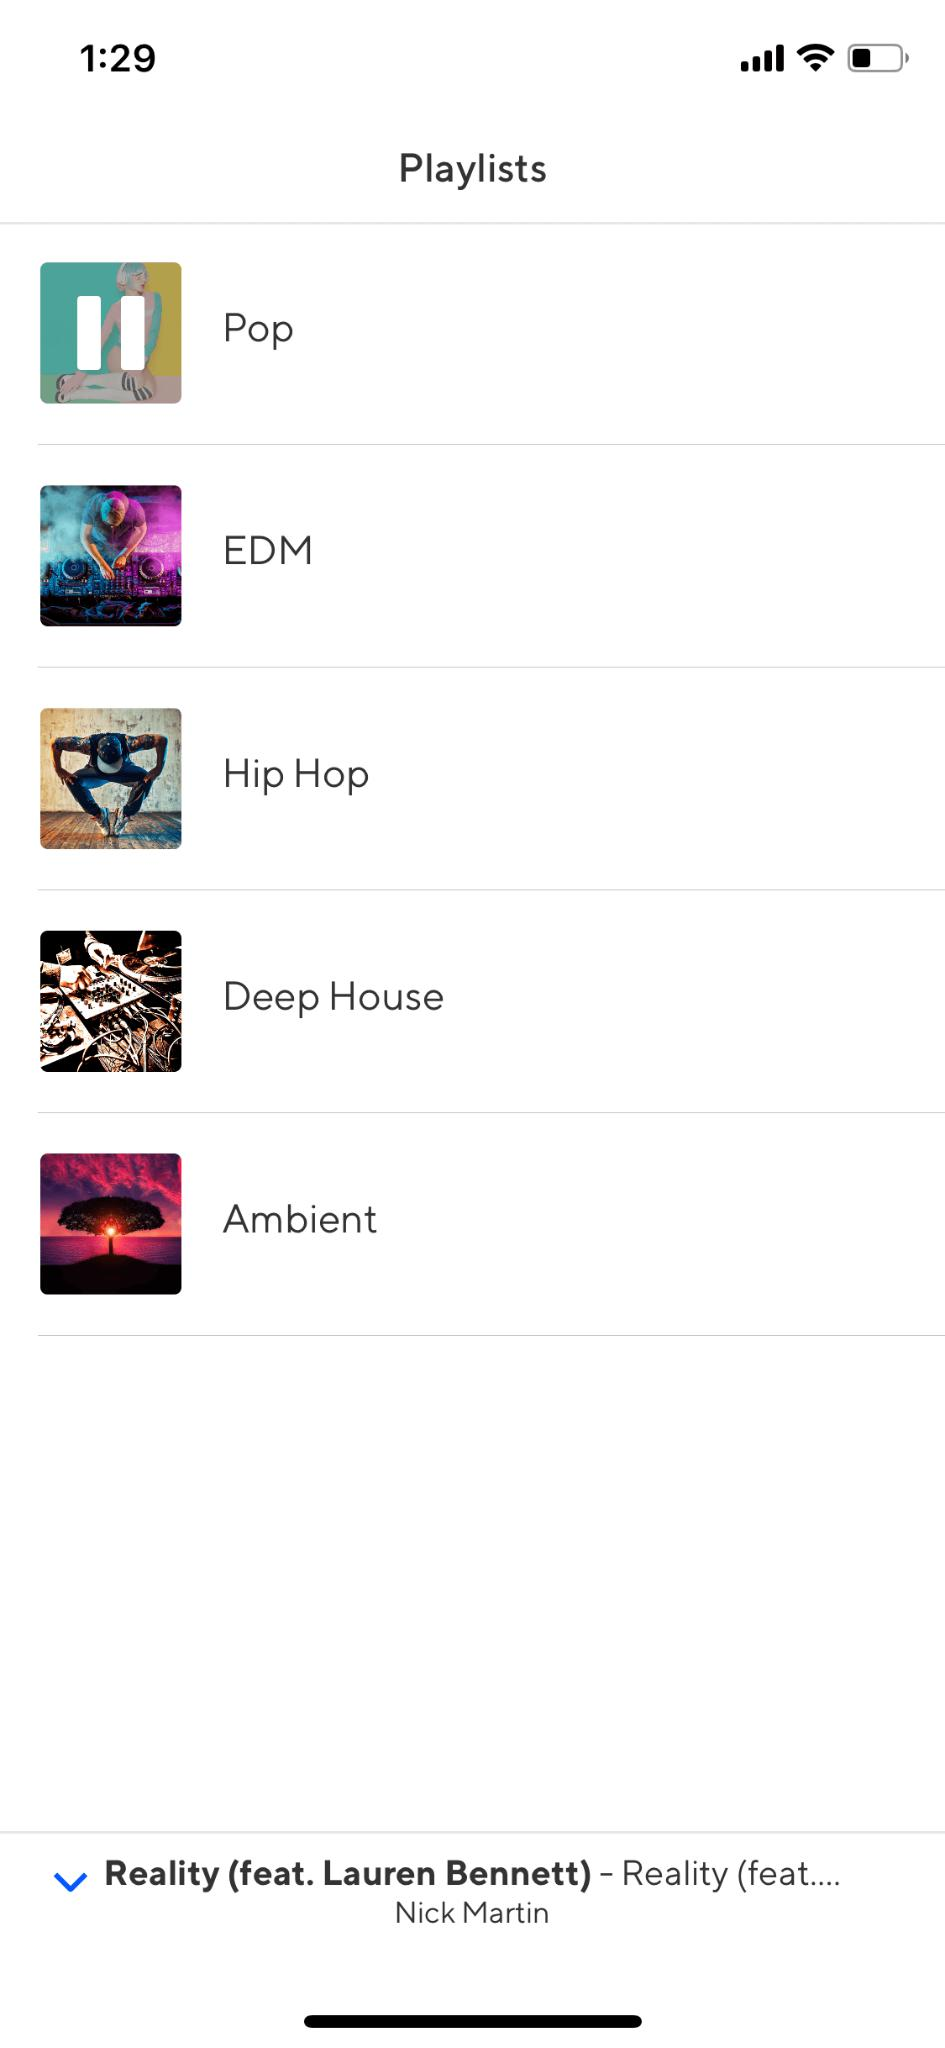Buttons: (39, 1849, 99, 1911)
